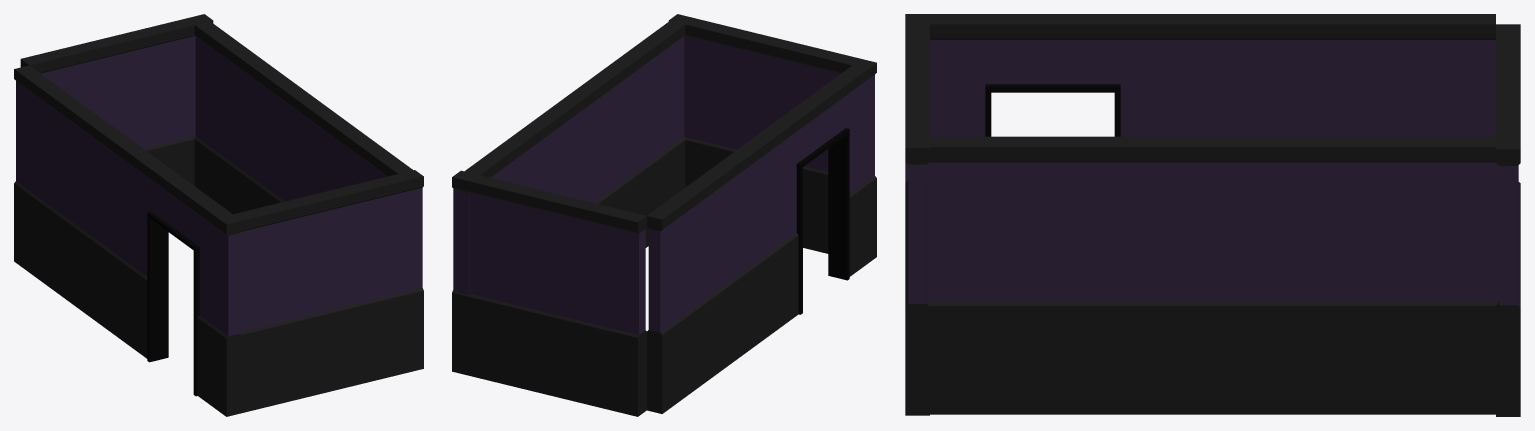
Rendered from Bathroom 1.fbx.
3 renders of one model, left to right at view 1: azimuth 30°, elevation 25°; view 2: azimuth 150°, elevation 25°; view 3: azimuth 270°, elevation 25°, orthographic. The views are drawn at different scales.
Parts seen in each view (by area): view 1: Classic_Wall_snaps001 (48), Classic_Wall_snaps001 (44), Classic_WallDoorFrame_02_snaps001 (2), Classic_Wall_snaps001 (53), Classic_Wall_snaps001 (54), Classic_Wall_snaps001 (41); view 2: Classic_Wall_snaps001 (54), Classic_Wall_snaps001 (44), Classic_WallDoorFrame_02_snaps001 (2), Classic_Wall_snaps001 (48), Classic_Wall_snaps001 (41), Classic_Wall_snaps001 (53); view 3: Classic_Wall_snaps001 (41), Classic_Wall_snaps001 (53), Classic_Wall_snaps001 (44), Classic_WallDoorFrame_02_snaps001 (2), Classic_Wall_snaps001 (48), Classic_Wall_snaps001 (54).
Boxes of the visible parts, x1,y1,x2,y2 form: Classic_Wall_snaps001 (48): (232,170,423,413); Classic_Wall_snaps001 (44): (14,65,134,338); Classic_WallDoorFrame_02_snaps001 (2): (120,143,241,416); Classic_Wall_snaps001 (53): (187,15,307,214); Classic_Wall_snaps001 (54): (20,14,213,185); Classic_Wall_snaps001 (41): (293,93,413,198); Classic_Wall_snaps001 (54): (452,170,646,416); Classic_Wall_snaps001 (44): (647,137,769,413); Classic_WallDoorFrame_02_snaps001 (2): (754,59,876,335); Classic_Wall_snaps001 (48): (668,14,861,253); Classic_Wall_snaps001 (41): (563,21,685,247); Classic_Wall_snaps001 (53): (456,99,578,294); Classic_Wall_snaps001 (41): (927,136,1222,414); Classic_Wall_snaps001 (53): (1223,136,1518,414); Classic_Wall_snaps001 (44): (1200,14,1495,136); Classic_WallDoorFrame_02_snaps001 (2): (905,14,1200,182); Classic_Wall_snaps001 (48): (905,23,929,415); Classic_Wall_snaps001 (54): (1496,24,1520,416).
Size of the model in its own units: 3.28 by 3 by 6.25.
